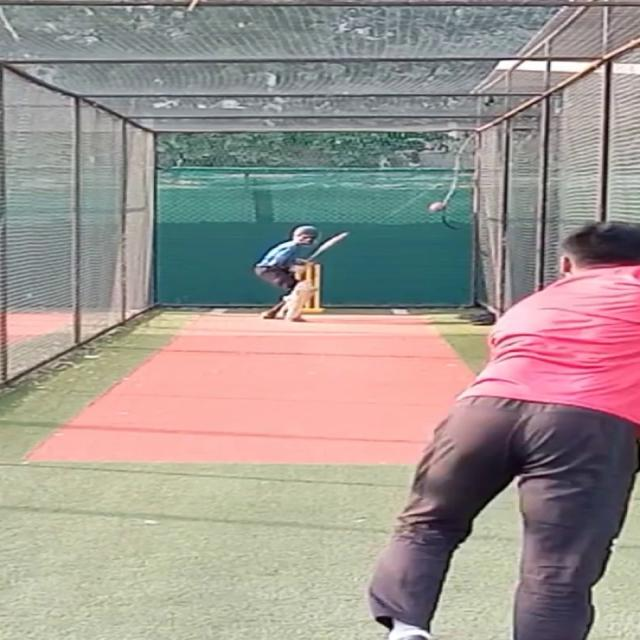ball: (428, 199, 450, 212)
stump: (304, 264, 324, 314)
